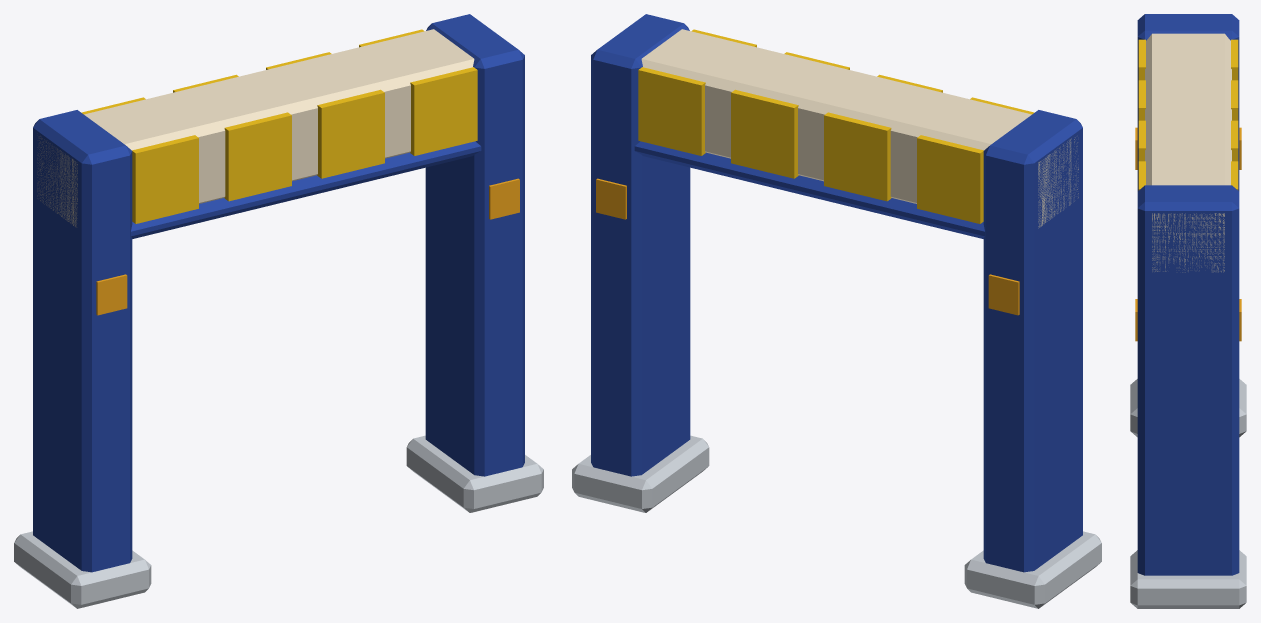
The model's file is slide_gate.glb.
The picture shows the model from 3 angles, left to right: view 1: azimuth 30°, elevation 25°; view 2: azimuth 150°, elevation 25°; view 3: azimuth 270°, elevation 25°; orthographic projection. The views are drawn at different scales.
Parts seen in each view (by area): view 1: post_l, post_r, crossbar, crossbar_lip, base_r, base_l, chevron_3_f, chevron_1_f, chevron_2_f, chevron_0_f, post_light_l, post_light_r; view 2: post_l, post_r, crossbar, crossbar_lip, base_r, base_l, chevron_3_b, chevron_1_b, chevron_2_b, chevron_0_b, post_light_l, post_light_r; view 3: post_r, crossbar, base_r, post_l, base_l, chevron_0_f, chevron_0_b, chevron_2_f, chevron_2_b, chevron_1_f, chevron_1_b, post_light_l (+4 smaller).
Part boxes in pixels (x1=…): post_l: x1=33, y1=110, x2=132, y2=572; post_r: x1=425, y1=14, x2=524, y2=476; crossbar: x1=37, y1=29, x2=474, y2=227; crossbar_lip: x1=38, y1=141, x2=481, y2=243; base_r: x1=406, y1=435, x2=543, y2=512; base_l: x1=14, y1=531, x2=151, y2=608; chevron_3_f: x1=410, y1=67, x2=477, y2=155; chevron_1_f: x1=224, y1=112, x2=291, y2=201; chevron_2_f: x1=317, y1=89, x2=384, y2=178; chevron_0_f: x1=132, y1=135, x2=198, y2=223; post_light_l: x1=96, y1=274, x2=127, y2=315; post_light_r: x1=489, y1=178, x2=519, y2=219; post_l: x1=983, y1=110, x2=1082, y2=572; post_r: x1=591, y1=14, x2=690, y2=476; crossbar: x1=641, y1=29, x2=1078, y2=228; crossbar_lip: x1=634, y1=141, x2=1081, y2=238; base_r: x1=572, y1=435, x2=709, y2=512; base_l: x1=964, y1=531, x2=1101, y2=608; chevron_3_b: x1=638, y1=67, x2=705, y2=155; chevron_1_b: x1=824, y1=112, x2=891, y2=201; chevron_2_b: x1=731, y1=89, x2=798, y2=178; chevron_0_b: x1=917, y1=135, x2=983, y2=223; post_light_l: x1=988, y1=274, x2=1019, y2=315; post_light_r: x1=596, y1=178, x2=626, y2=219; post_r: x1=1137, y1=185, x2=1239, y2=575; crossbar: x1=1145, y1=33, x2=1231, y2=272; base_r: x1=1130, y1=550, x2=1246, y2=608; post_l: x1=1137, y1=14, x2=1239, y2=191; base_l: x1=1130, y1=379, x2=1246, y2=437; chevron_0_f: x1=1138, y1=39, x2=1145, y2=80; chevron_0_b: x1=1231, y1=39, x2=1238, y2=80; chevron_2_f: x1=1138, y1=120, x2=1145, y2=161; chevron_2_b: x1=1231, y1=120, x2=1238, y2=161; chevron_1_f: x1=1138, y1=80, x2=1145, y2=120; chevron_1_b: x1=1231, y1=80, x2=1238, y2=120; post_light_l: x1=1135, y1=127, x2=1241, y2=169.
Bounding box in the file's own units: 2.1 × 1.9 × 0.5.
